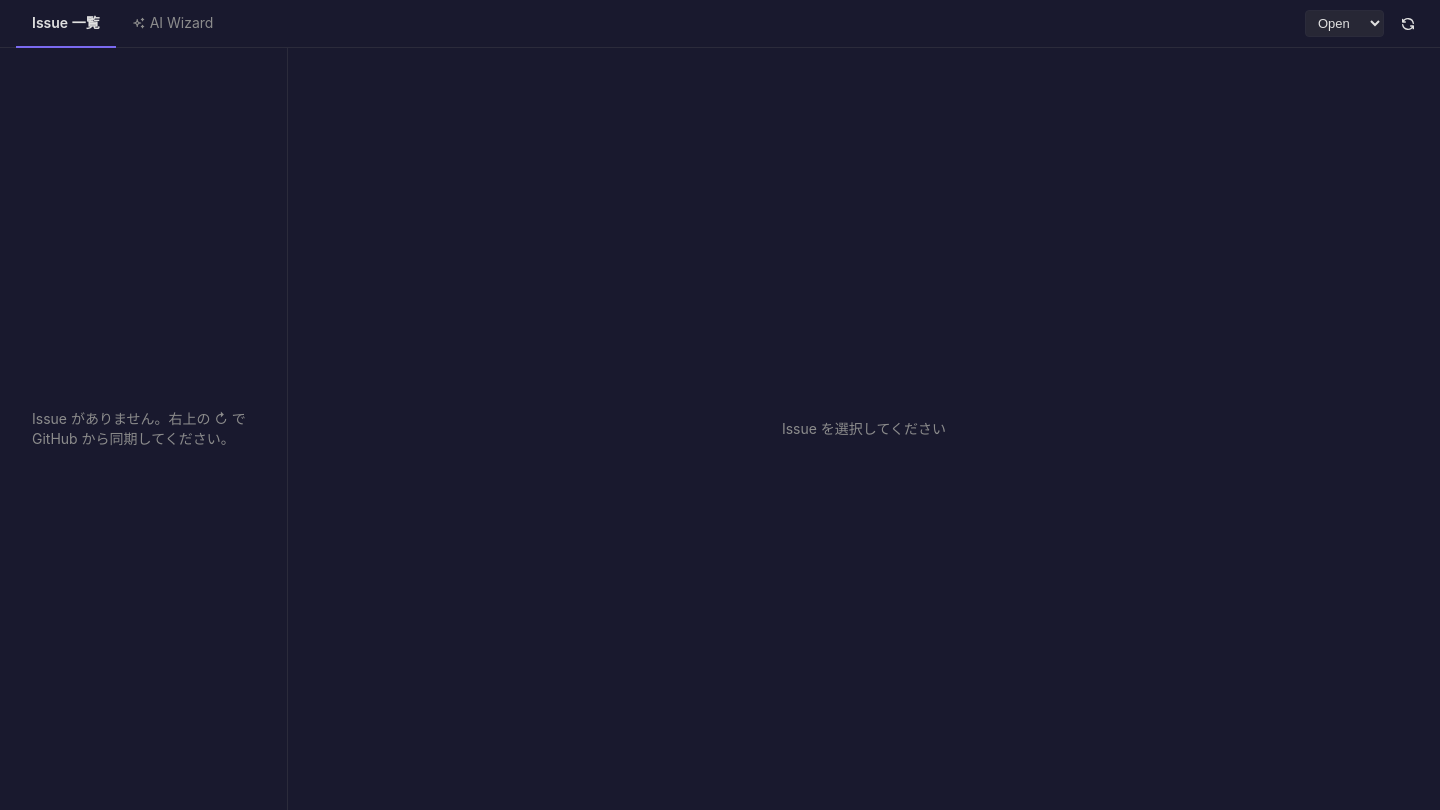
Scenario: IssuesScreen — AI Wizard タブ › currentDraft ありのときフォームが表示される
Click the button "AI Wizard" at x=172, y=24, box [116,0,229,48]
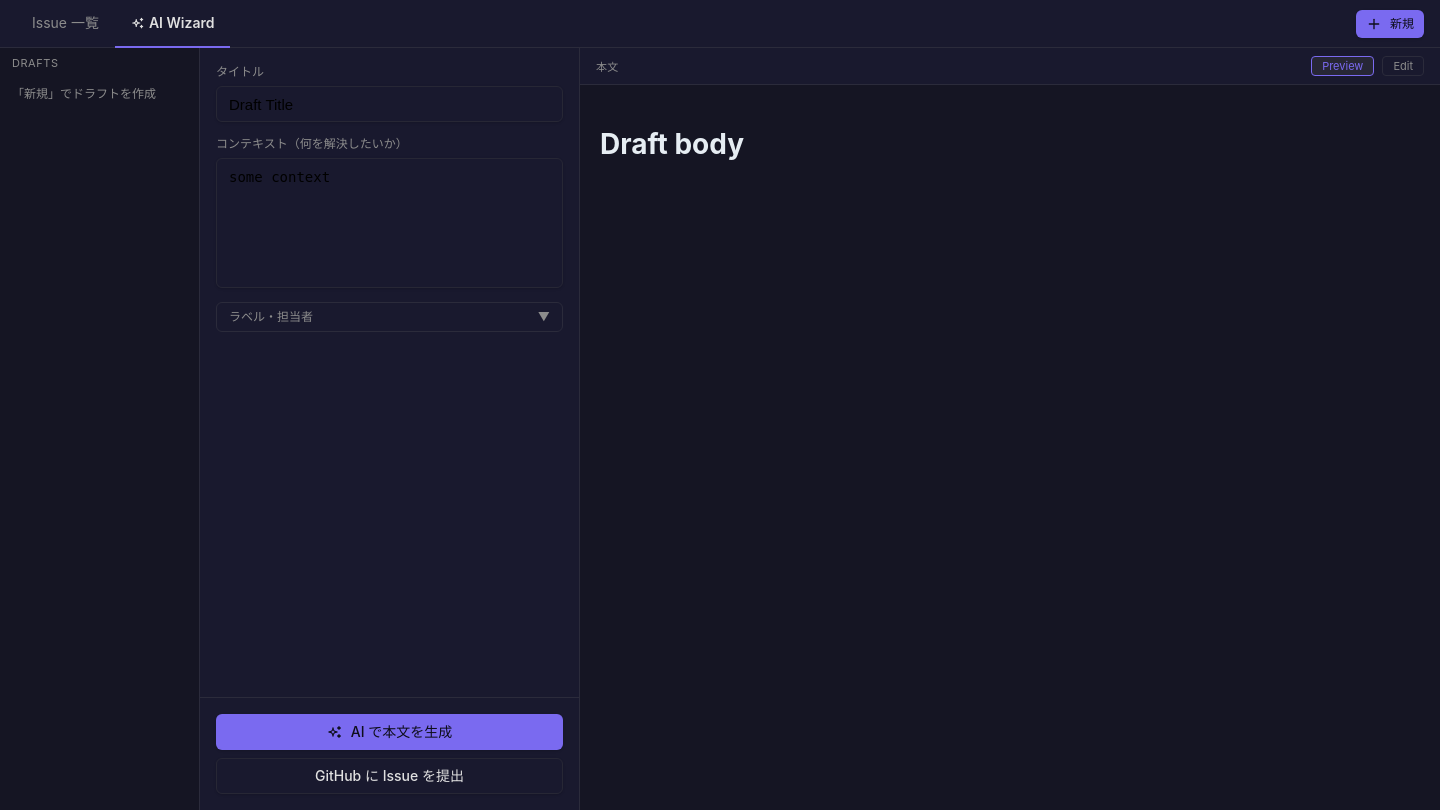
Check: the field with test id "wizard-step1-input" is shown, box [216,86,563,122]
Check: the text box with test id "wizard-context-input" is shown, box [216,158,563,288]
